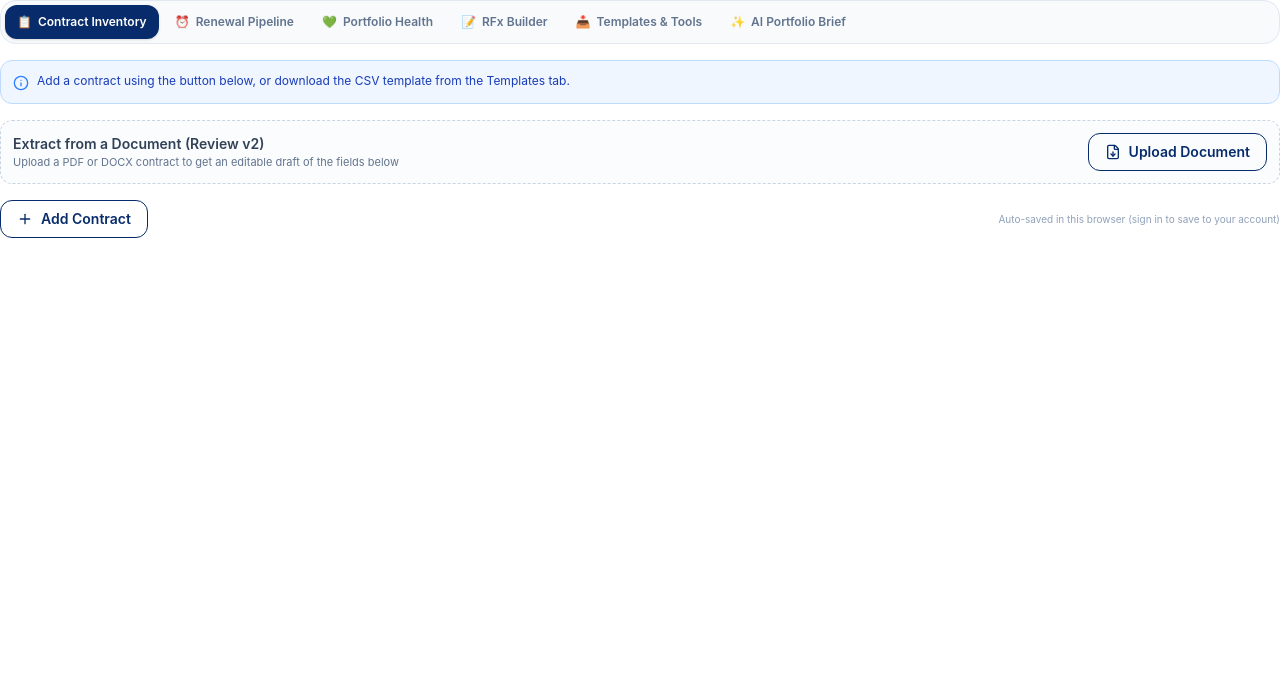
#385 UNSPSC Class/Commodity searchable lookup › returns real commodity + class matches for a broad query, commodities ranked first
The image size is (1280, 674).
Click the button "Add Contract" at (74, 219), box [0, 200, 148, 238]
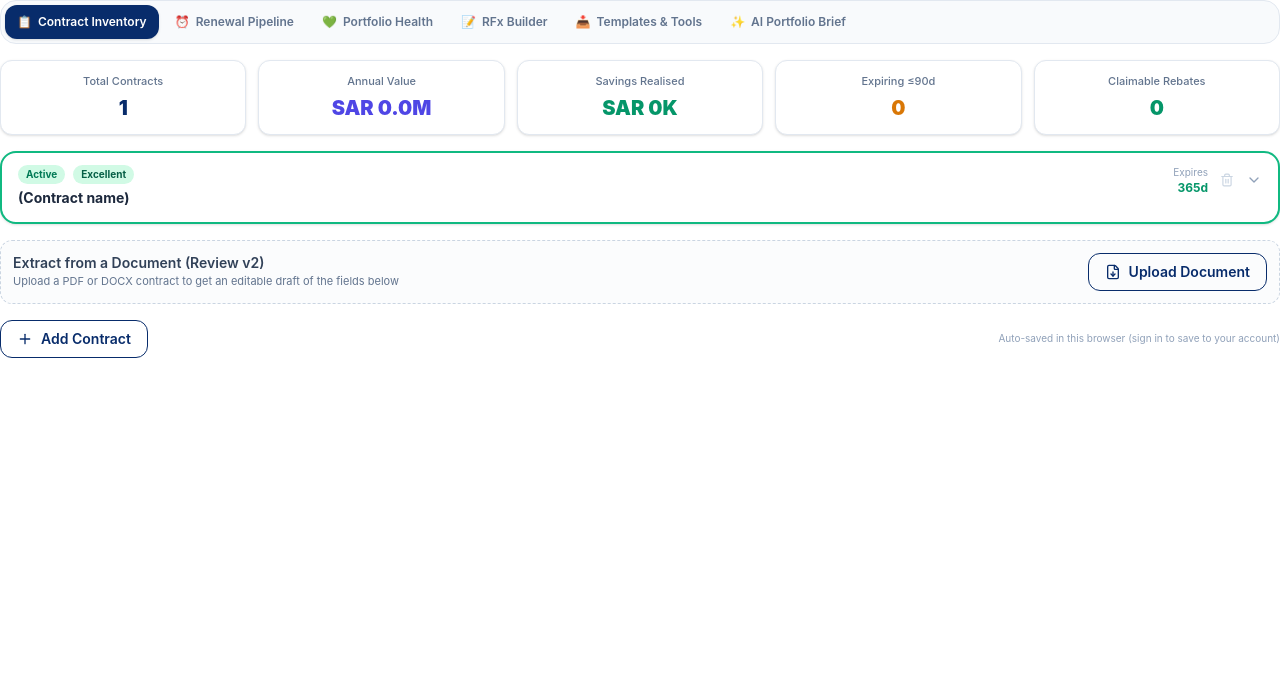
Click the text "(Contract name)" at (74, 197), box [18, 188, 130, 206]
(page scrolled)
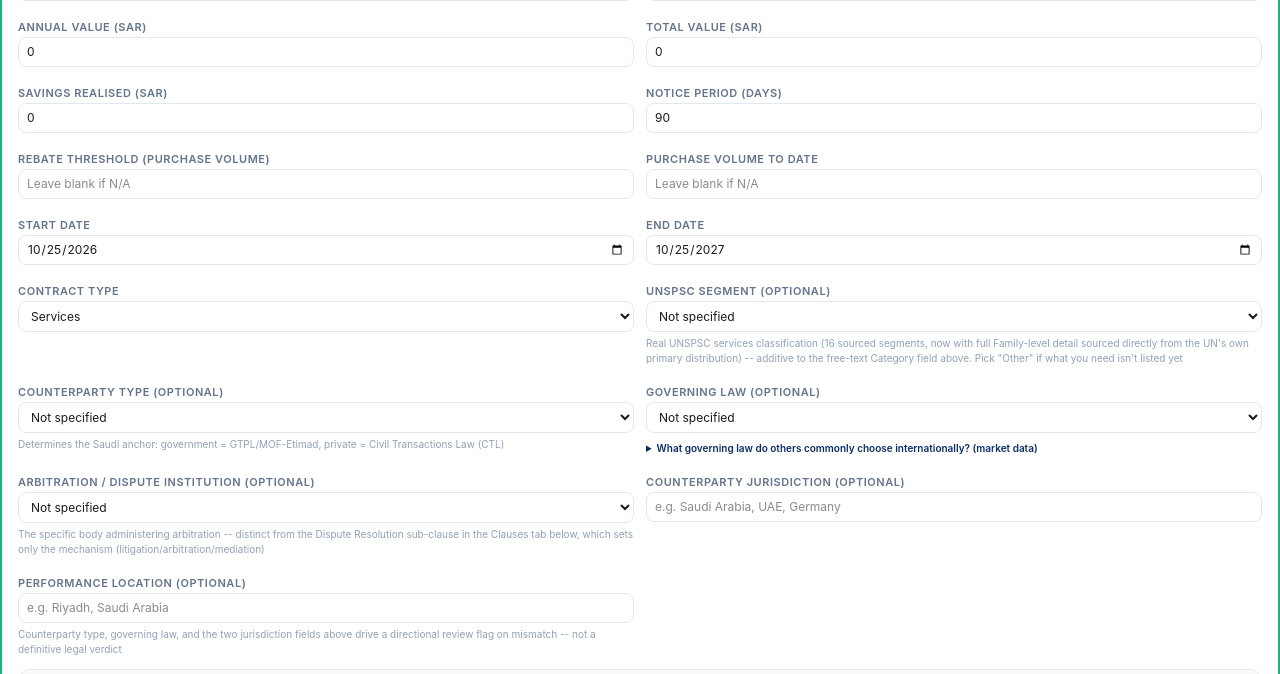
Select "80 -- Management, Business Professionals and Administrative Services" in the dropdown labelled "UNSPSC Segment (optional)" at (954, 316), box [646, 300, 1262, 332]
(page scrolled)
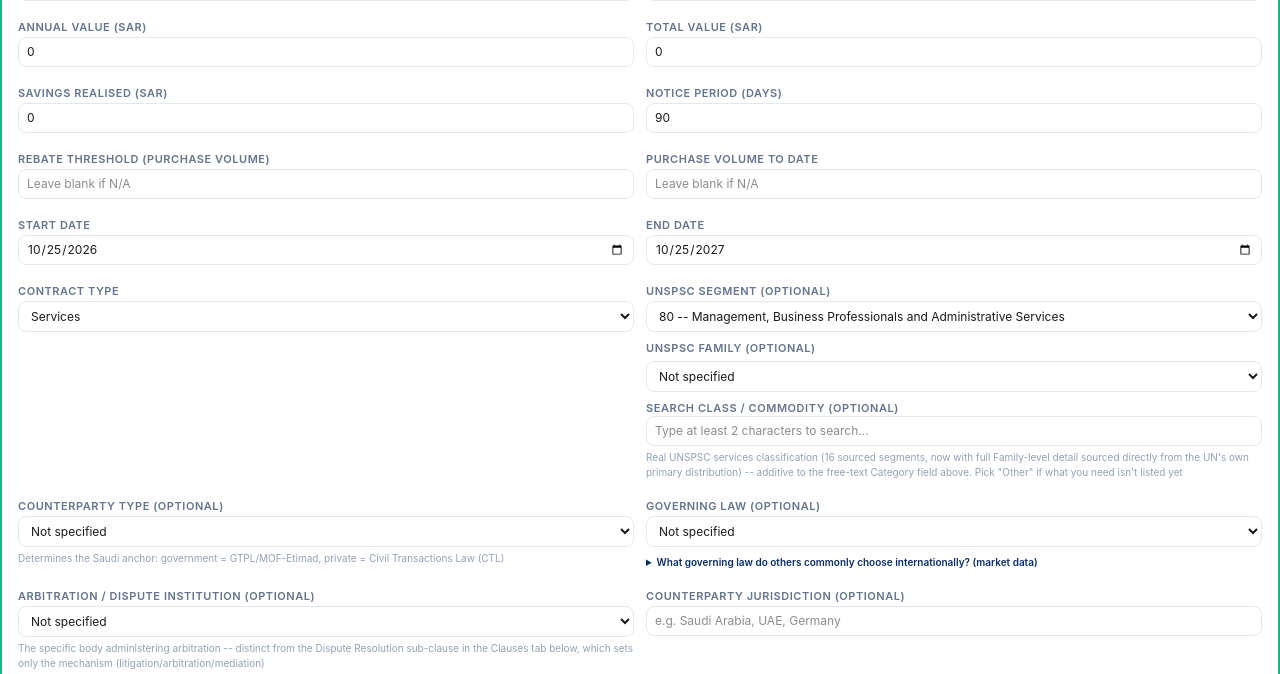
Type "recruit" into the field labelled "Search Class / Commodity (optional)" at (954, 431), box [646, 416, 1262, 446]
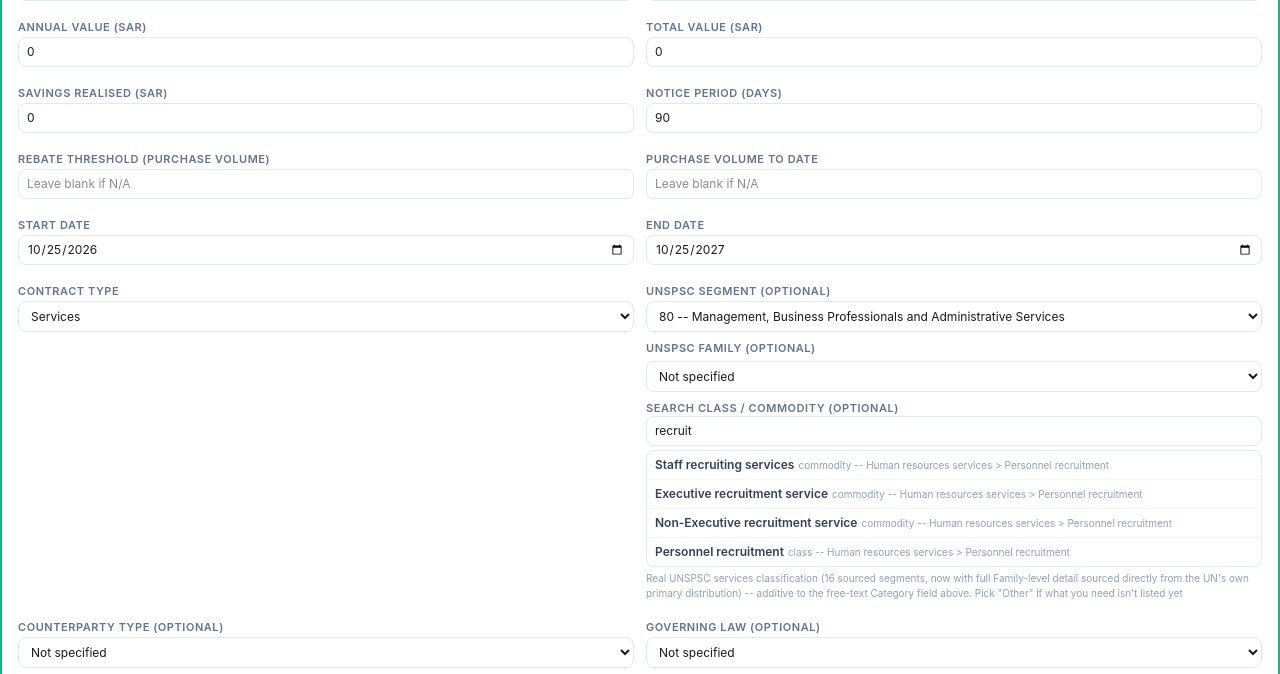
Now the text "Staff recruiting services" is shown, box [655, 457, 794, 472]
Now the text "Executive recruitment service" is shown, box [655, 486, 828, 501]
Now the text "Non-Executive recruitment service" is shown, box [655, 515, 857, 530]
